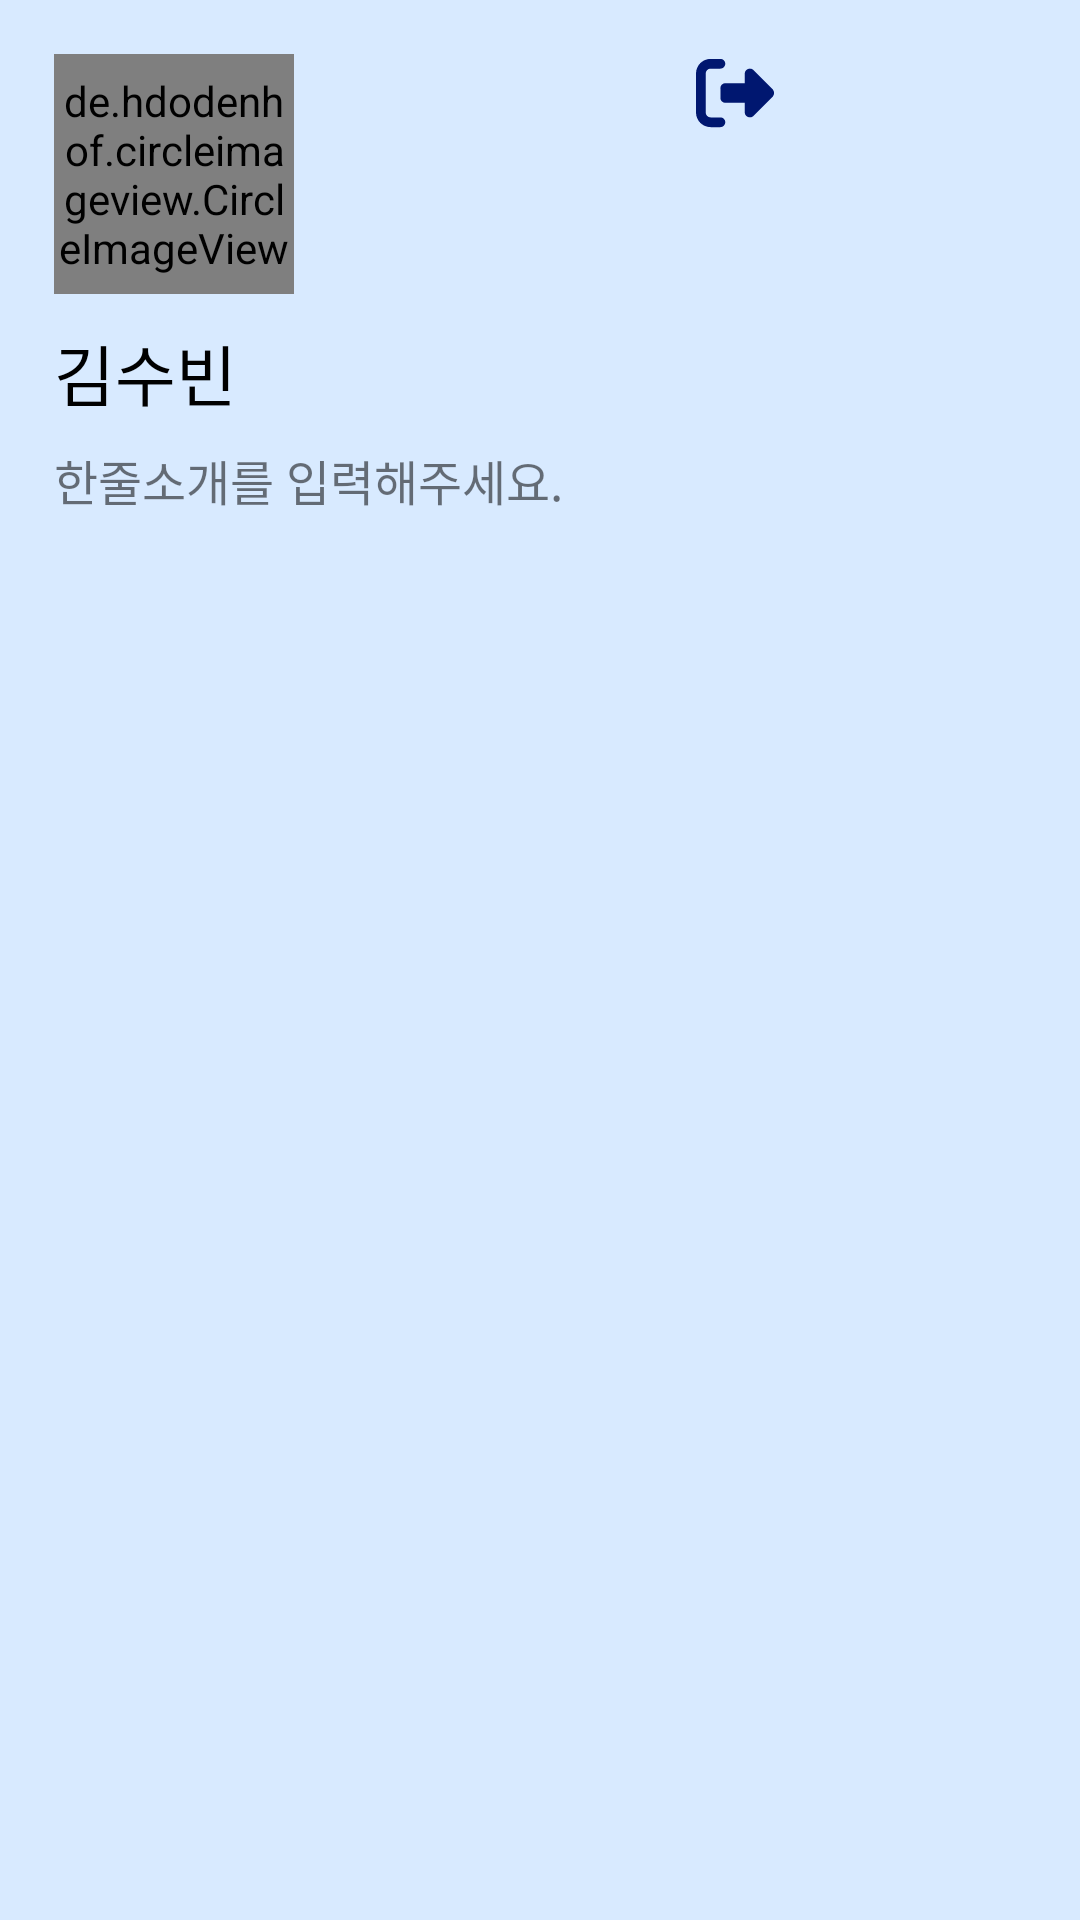

Where icons sit on this 1080px×1920px app screen, as (x1, y1, x2, y2):
right from bracket: (696, 59, 774, 128)
